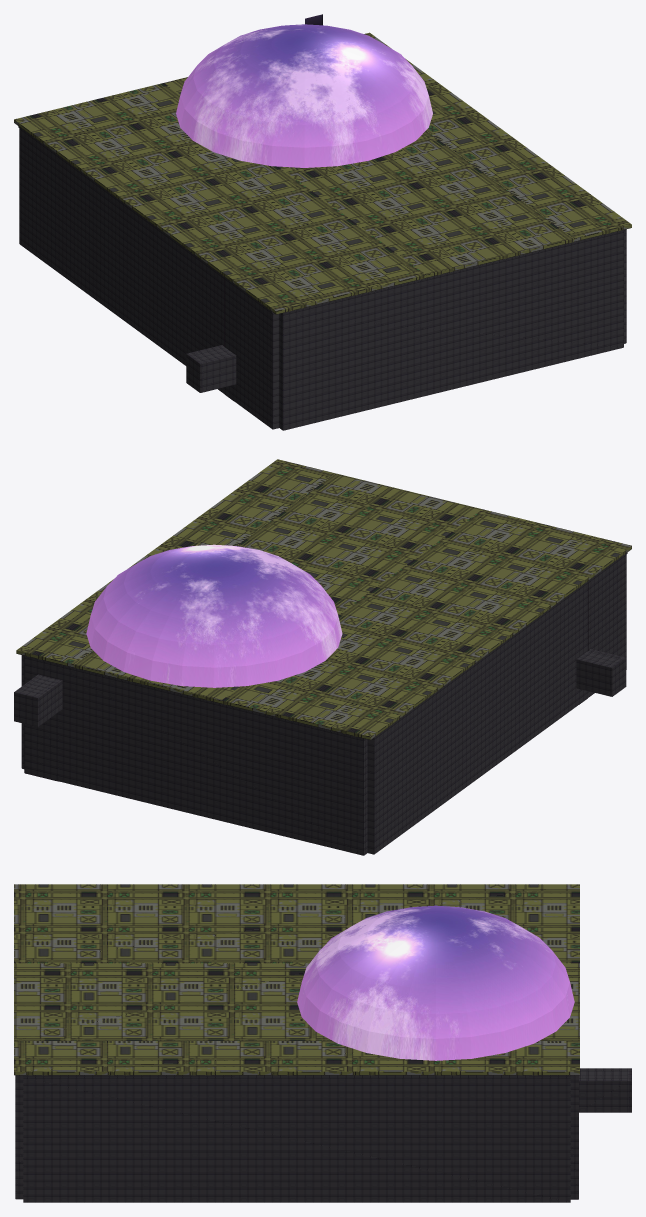
The model's file is level.glb.
The picture shows the model from 3 angles, top to bottom: view 1: azimuth 30°, elevation 25°; view 2: azimuth 150°, elevation 25°; view 3: azimuth 270°, elevation 25°; orthographic projection. The views are drawn at different scales.
Parts seen in each view (by area): view 1: OuterWall_South_Body, Ceiling_Slab_W, Dome_Sky, OuterWall_West_Body_C1, Ceiling_Slab_S, Ceiling_Slab_E, OuterWall_West_Body, Entry_Door, OuterWall_South_Cap, OuterWall_West_Body_C3, Entry_Door_EndWall; view 2: Ceiling_Slab_W, OuterWall_North_Body, Dome_Sky, OuterWall_West_Body_C1, Ceiling_Slab_S, Ceiling_Slab_E, OuterWall_West_Body, Ceiling_Slab_N, OuterWall_North_Body_C1, Entry_Door, OuterWall_North_Body_C2, Exit_Door (+4 smaller); view 3: OuterWall_East_Body, Ceiling_Slab_W, Dome_Sky, Ceiling_Slab_S, Ceiling_Slab_E, Exit_Door, OuterWall_North_Body_C1, OuterWall_South_Body, OuterWall_East_Cap, Ceiling_Slab_N, Exit_Door_Ceiling.
Part boxes in pixels (left/top/right/bottom): OuterWall_South_Body: left=279, top=231, right=623, bottom=430; Ceiling_Slab_W: left=14, top=83, right=426, bottom=314; Dome_Sky: left=176, top=24, right=432, bottom=167; OuterWall_West_Body_C1: left=19, top=128, right=224, bottom=393; Ceiling_Slab_S: left=279, top=131, right=573, bottom=277; Ceiling_Slab_E: left=364, top=32, right=631, bottom=241; OuterWall_West_Body: left=234, top=285, right=279, bottom=429; Entry_Door: left=190, top=345, right=236, bottom=392; OuterWall_South_Cap: left=281, top=230, right=624, bottom=314; OuterWall_West_Body_C3: left=224, top=279, right=233, bottom=353; Entry_Door_EndWall: left=186, top=353, right=203, bottom=392; Ceiling_Slab_W: left=221, top=509, right=631, bottom=740; OuterWall_North_Body: left=58, top=666, right=367, bottom=855; Dome_Sky: left=86, top=544, right=342, bottom=687; OuterWall_West_Body_C1: left=367, top=590, right=578, bottom=854; Ceiling_Slab_S: left=237, top=473, right=481, bottom=614; Ceiling_Slab_E: left=16, top=459, right=334, bottom=667; OuterWall_West_Body: left=588, top=554, right=626, bottom=697; Ceiling_Slab_N: left=74, top=651, right=239, bottom=703; OuterWall_North_Body_C1: left=24, top=657, right=42, bottom=777; Entry_Door: left=576, top=649, right=622, bottom=695; OuterWall_North_Body_C2: left=42, top=712, right=58, bottom=781; Exit_Door: left=16, top=674, right=62, bottom=725; OuterWall_East_Body: left=23, top=1077, right=570, bottom=1202; Ceiling_Slab_W: left=14, top=884, right=579, bottom=963; Dome_Sky: left=297, top=905, right=574, bottom=1060; Ceiling_Slab_S: left=14, top=963, right=332, bottom=1040; Ceiling_Slab_E: left=14, top=1041, right=579, bottom=1075; Exit_Door: left=579, top=1068, right=627, bottom=1112; OuterWall_North_Body_C1: left=570, top=1075, right=578, bottom=1199; OuterWall_South_Body: left=15, top=1075, right=23, bottom=1199; OuterWall_East_Cap: left=22, top=1075, right=571, bottom=1076; Ceiling_Slab_N: left=539, top=963, right=579, bottom=1040; Exit_Door_Ceiling: left=579, top=1070, right=627, bottom=1079.
Size of the model in its own units: 119 by 56.94 by 151.
39 materials, 36 textured.
